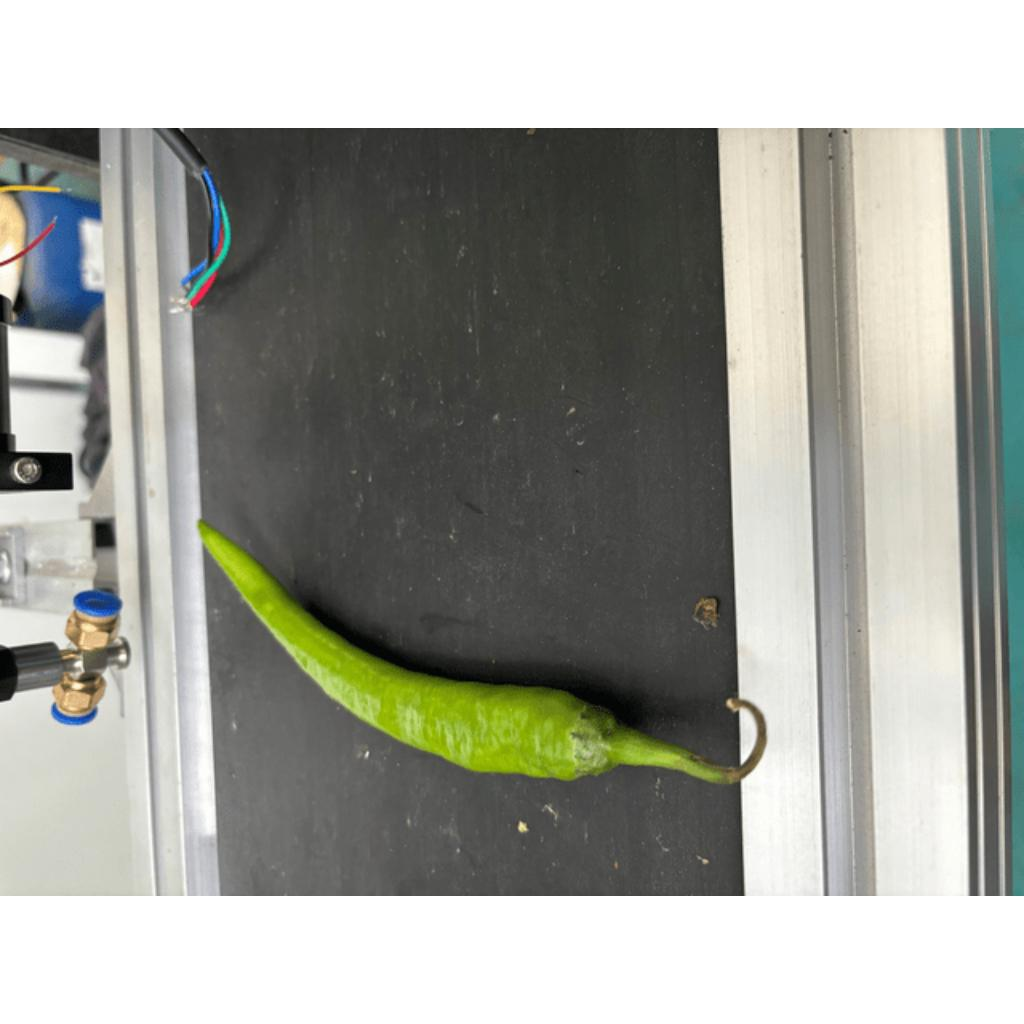chili: (192, 513, 625, 785)
